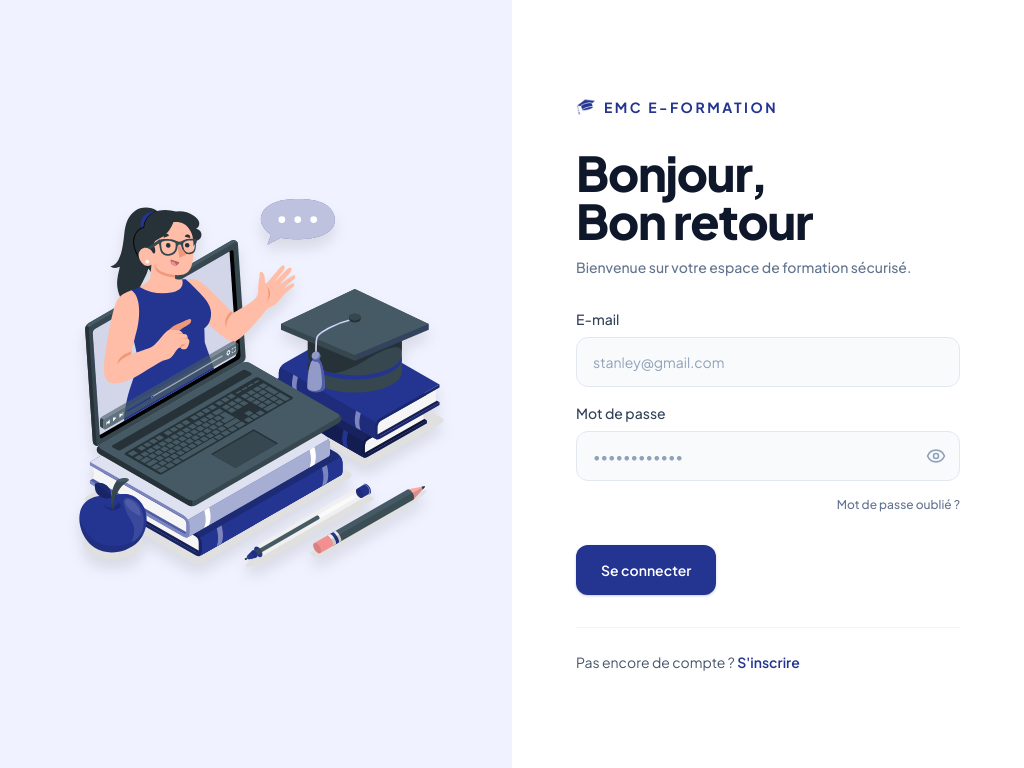
Intégration — authentification › affiche une erreur si les identifiants sont invalides
This screenshot has width=1024, height=768.
In the field with placeholder "stanley@gmail.com": (768, 362) x1=576 y1=336 x2=960 y2=386, type "amina@example.com"
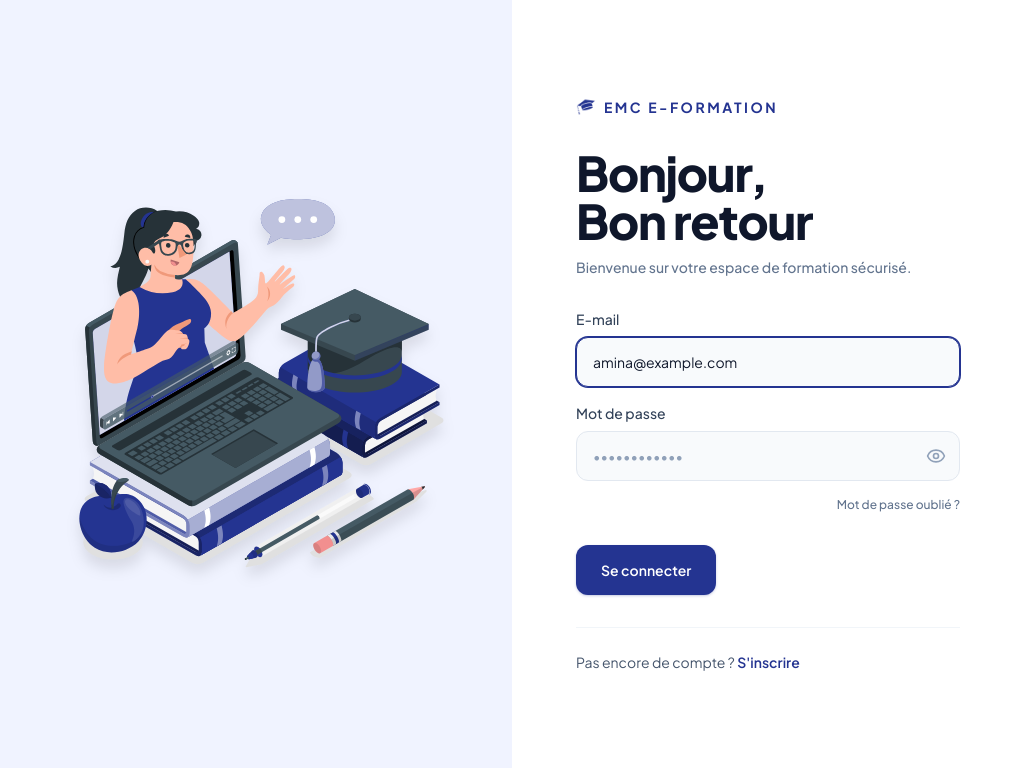
In the password field with placeholder "••••••••••••": (768, 456) x1=576 y1=430 x2=960 y2=480, type "mauvais-mot-de-passe"
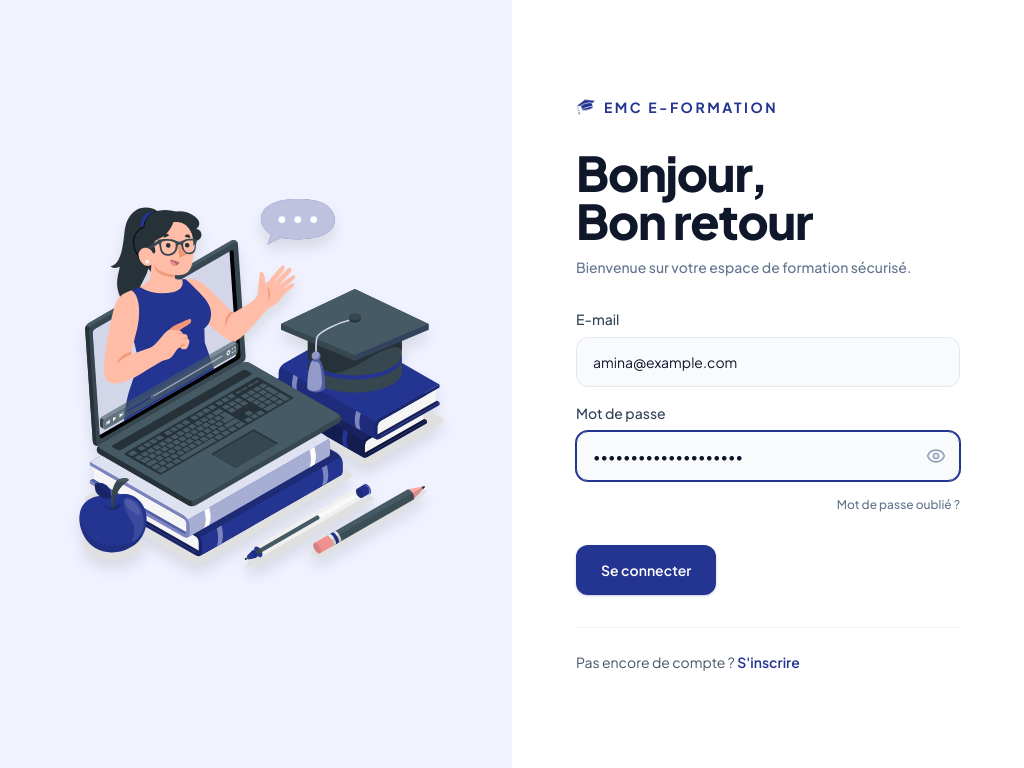
Click the button "Se connecter": (646, 570) x1=576 y1=544 x2=716 y2=594
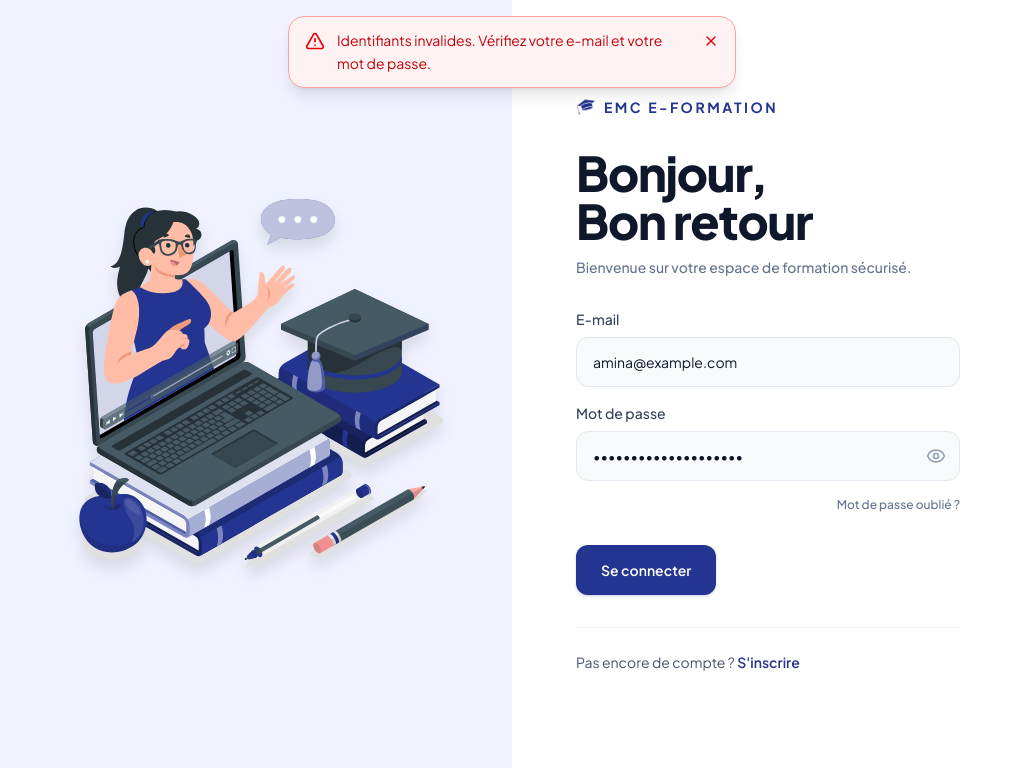
expect the heading "Bonjour,Bon retour" is shown: met, box x1=576 y1=142 x2=812 y2=250
expect the text "Identifiants invalides. Vérifiez votre e-mail et votre mot de passe." is shown: met, box x1=337 y1=29 x2=687 y2=74
